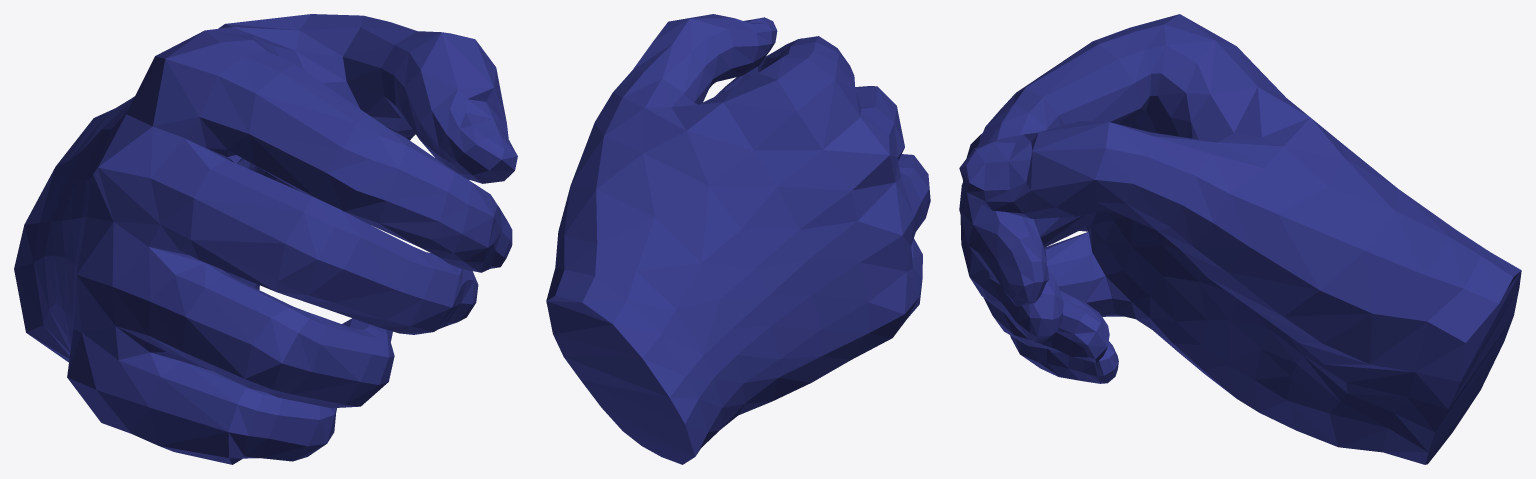
3 renders of one model, left to right at view 1: azimuth 30°, elevation 25°; view 2: azimuth 150°, elevation 25°; view 3: azimuth 270°, elevation 25°, orthographic. The views are drawn at different scales.
Size of the model in its own units: 0.091 by 0.1012 by 0.1266.
